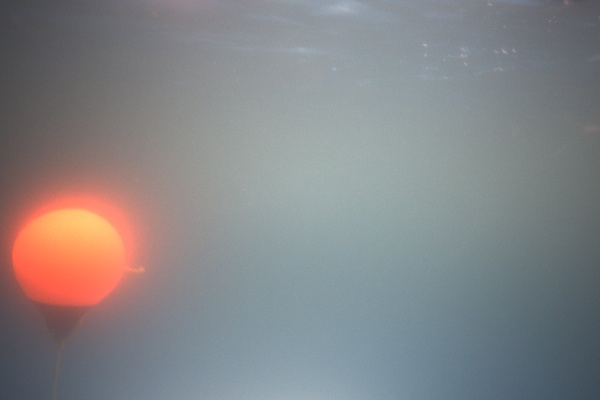buoy: (340, 87, 378, 128)
